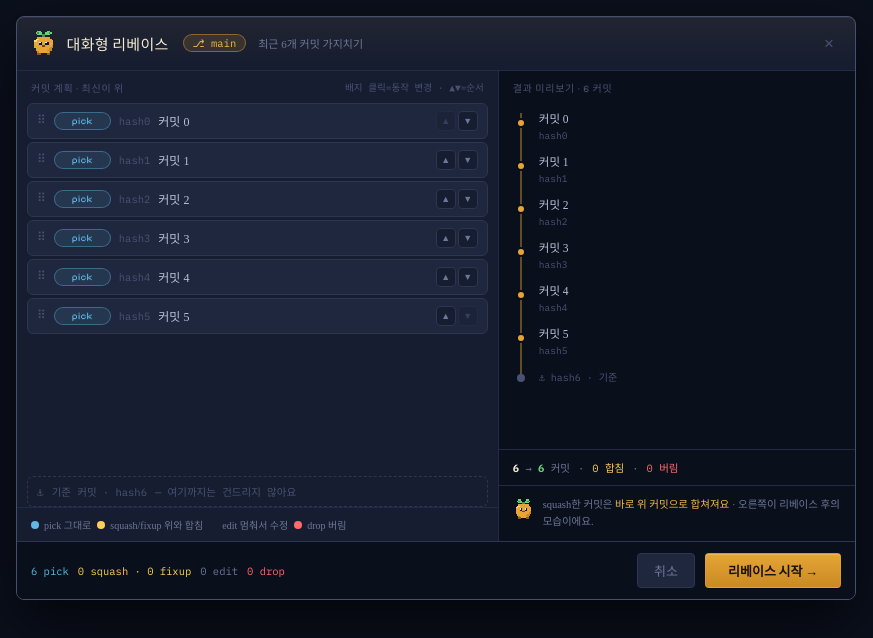
InteractiveRebaseModal — 계획 + 결과 미리보기 › 첫 커밋을 drop으로 순환하면 미리보기가 5 커밋으로 줄고 버림 카운트가 오른다
Click the 1st text "pick".
click(82, 121)  # box [54,112,111,130]
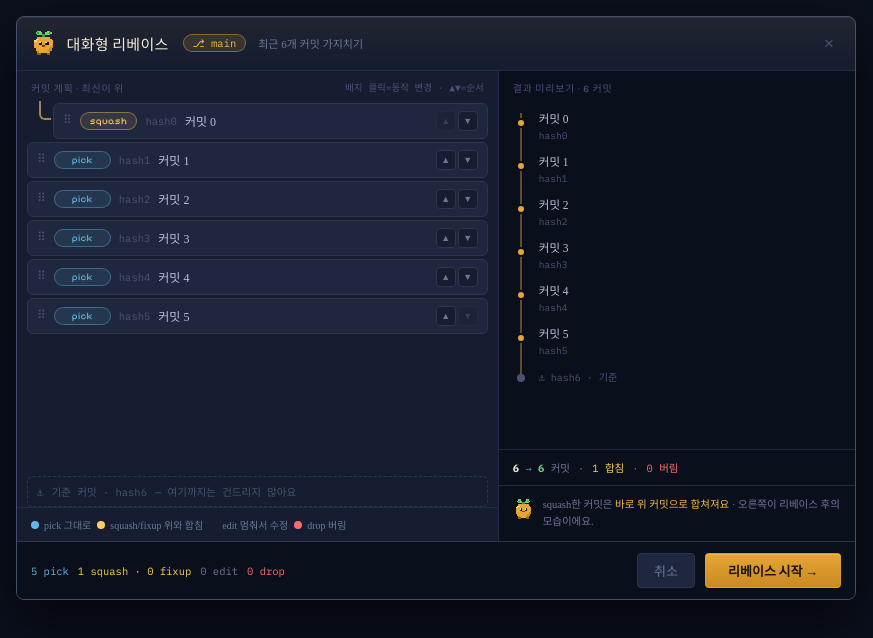
Click the text "pick".
click(109, 121)  # box [80,112,137,130]
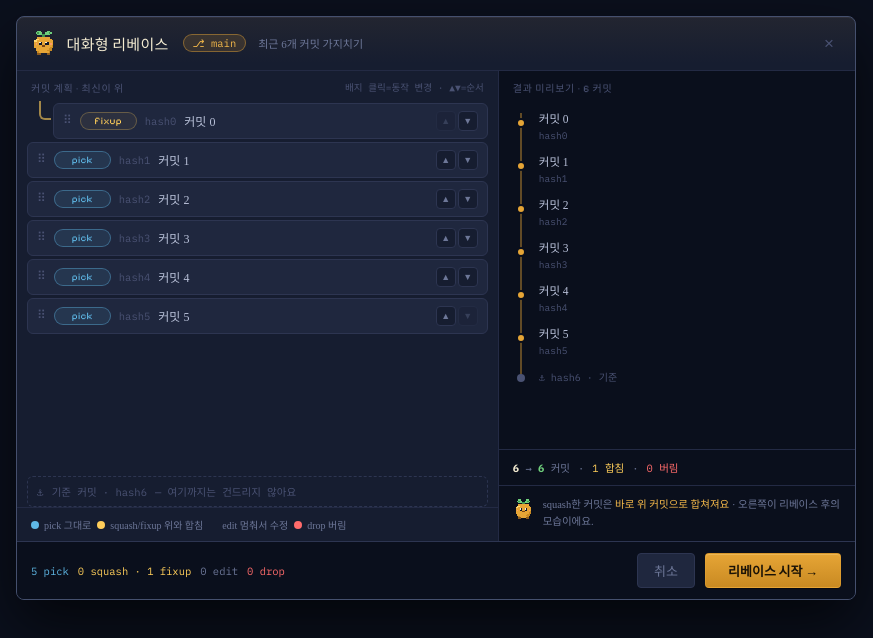
Click the text "pick".
click(108, 121)  # box [80,112,137,130]
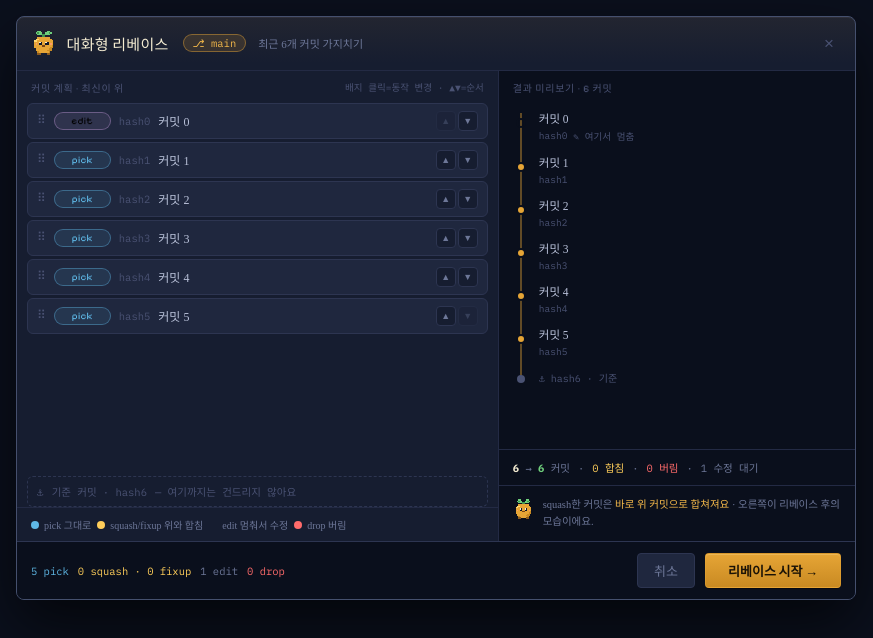
Click the text "pick".
click(82, 121)  # box [54,112,111,130]
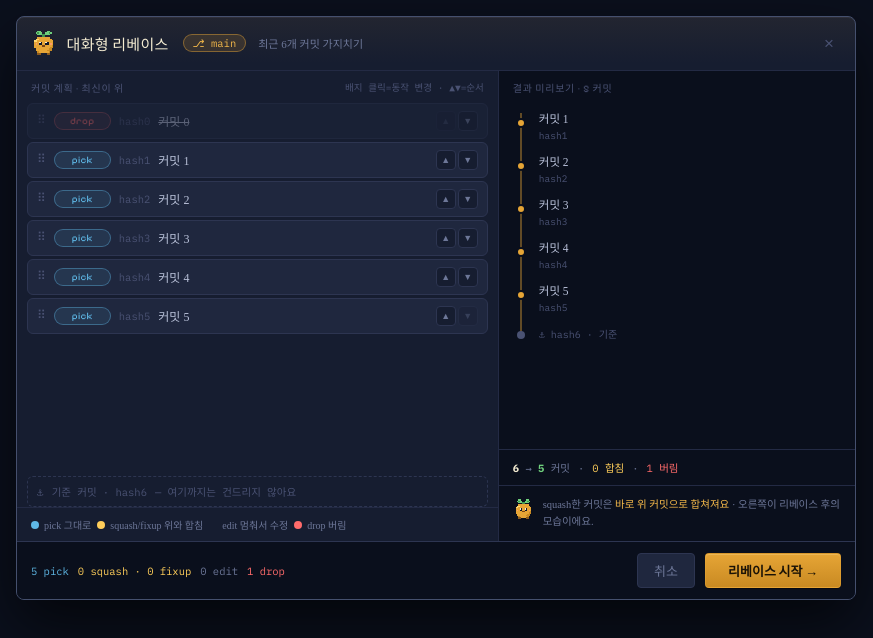
Expected: the text "결과 미리보기 · 5 커밋" is shown, [513,83,612,95]
Result: the text "1 버림" is shown at [647,460,678,476]
